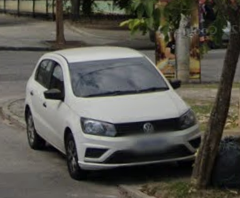car: (23, 45, 203, 182)
